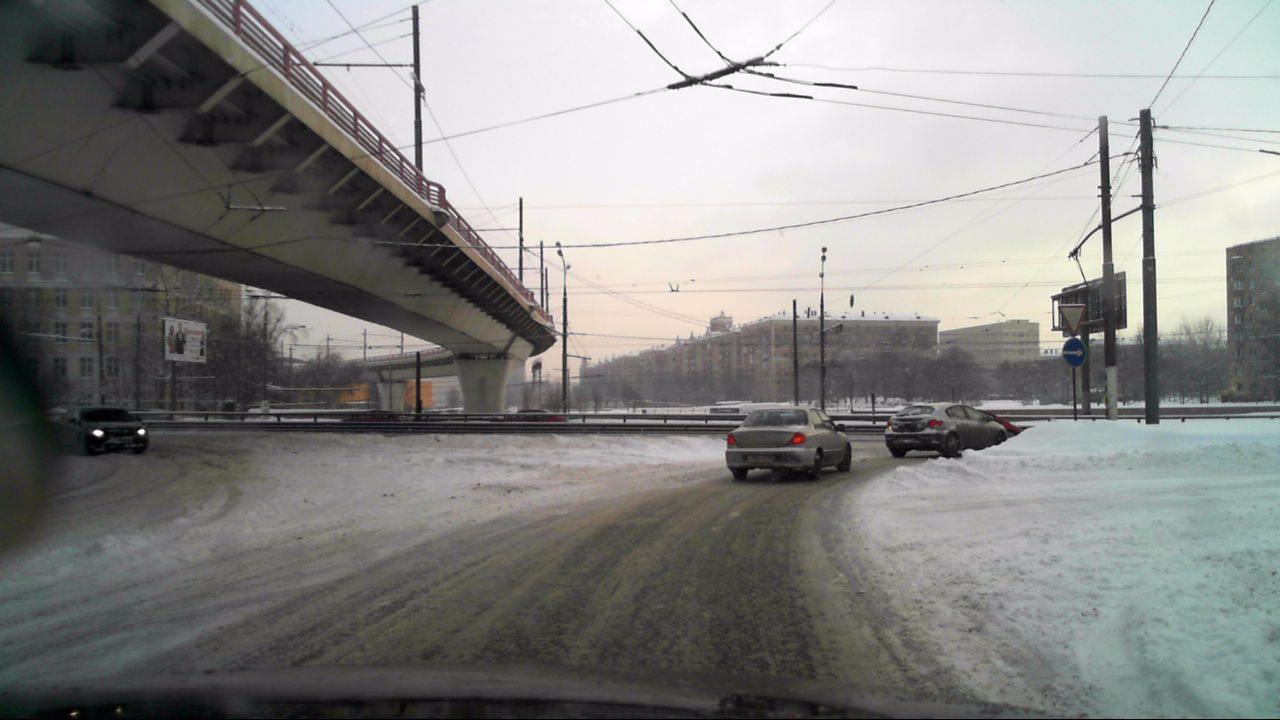Turn Right: (1062, 338, 1086, 367)
